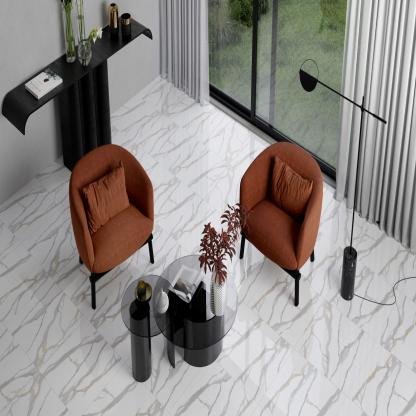Ceramic floor: (0, 167, 416, 416), (102, 54, 285, 299)
